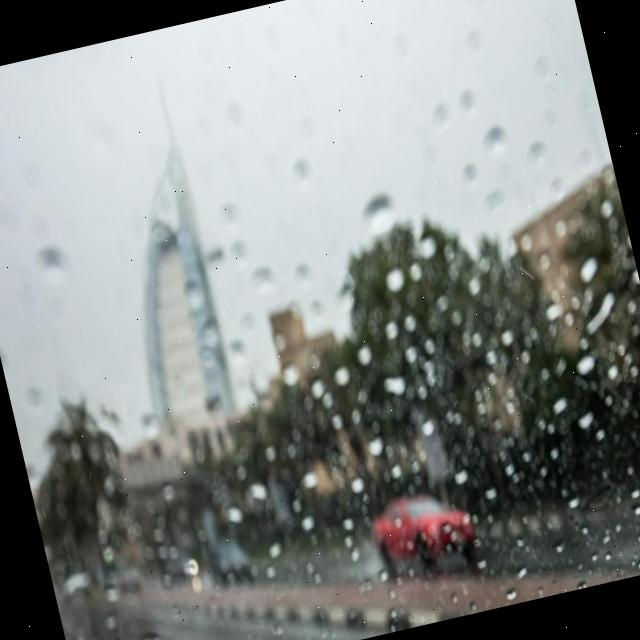car: (366, 476, 482, 574)
